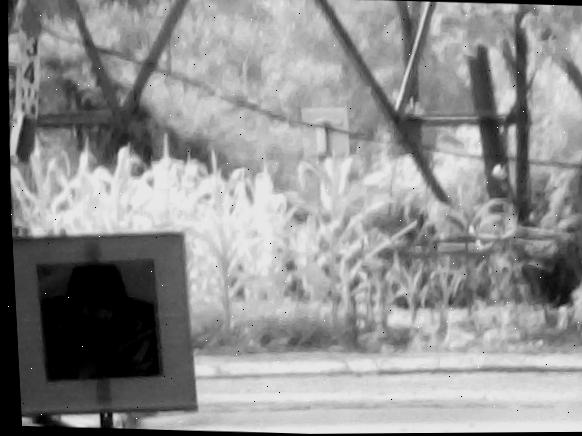bia: (36, 256, 163, 382)
